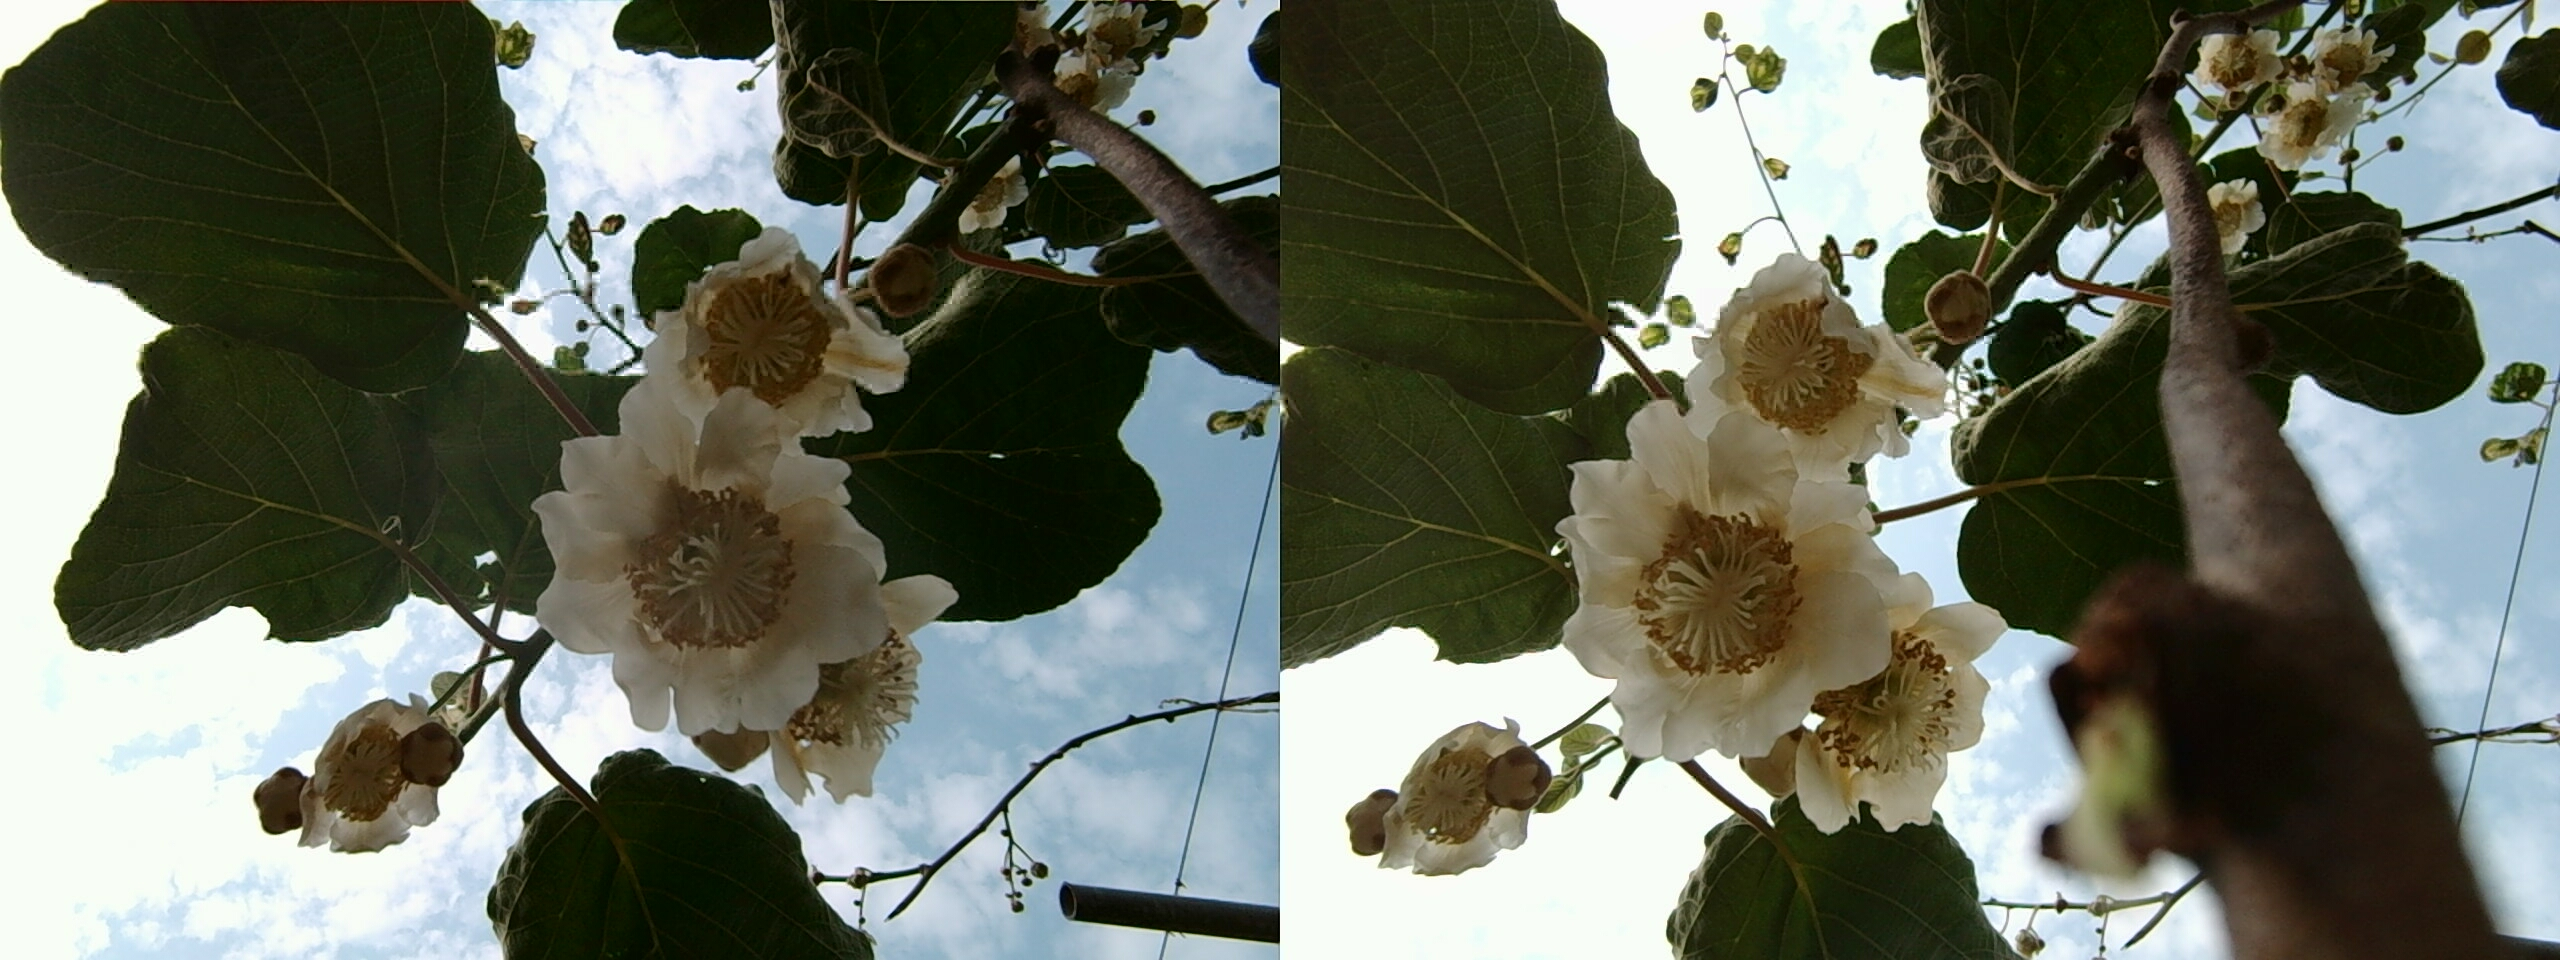flower: (526, 426, 888, 736), (1564, 429, 1887, 746), (629, 211, 887, 462), (1755, 594, 2011, 829), (1687, 250, 1936, 487), (749, 580, 945, 797), (248, 692, 469, 851), (1340, 712, 1558, 872)
